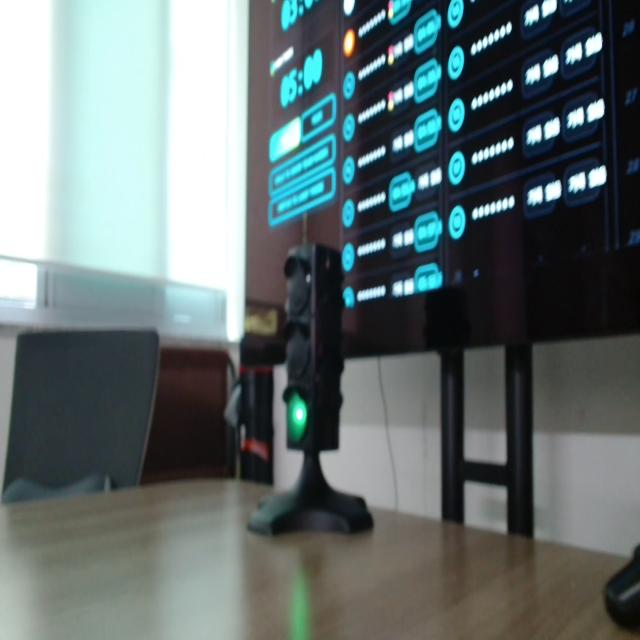green_light: (288, 393, 307, 442)
